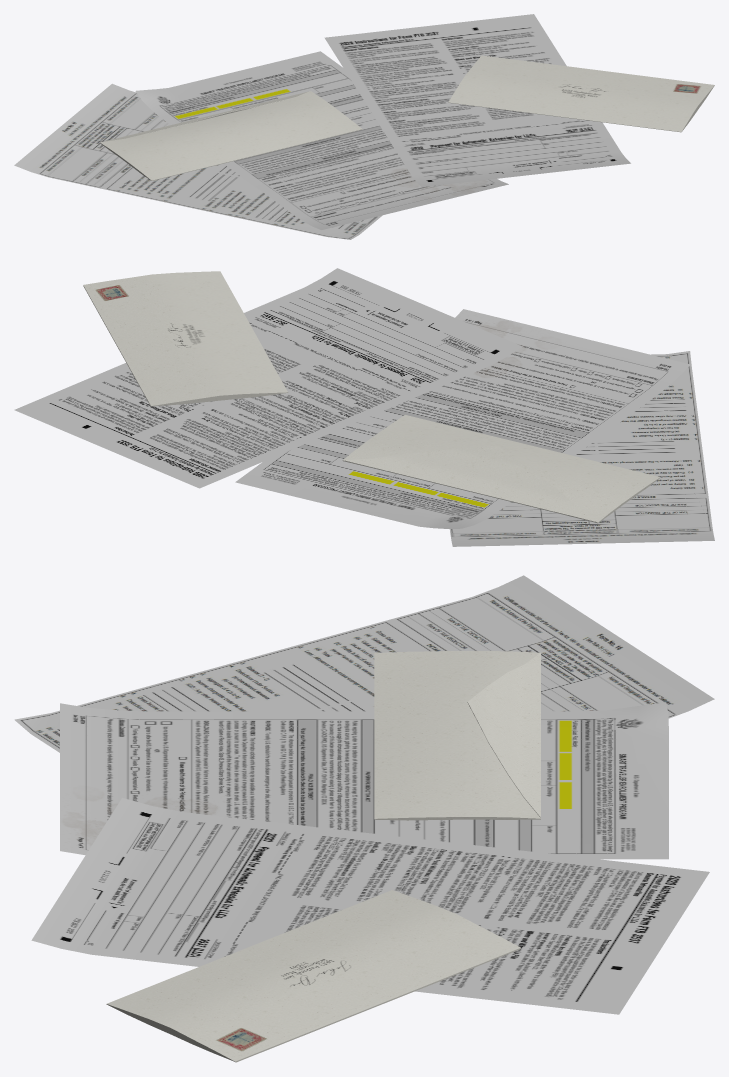
3 renders of one model, top to bottom at view 1: azimuth 30°, elevation 25°; view 2: azimuth 150°, elevation 25°; view 3: azimuth 270°, elevation 25°, orthographic. The views are drawn at different scales.
Visible parts, largest first — view 1: Paper_2, Paper_1, Paper_3, Envelope_1, Envelope_2; view 2: Paper_2, Paper_1, Paper_3, Envelope_1, Envelope_2; view 3: Paper_2, Paper_1, Paper_3, Envelope_1, Envelope_2.
Boxes of the visible parts, x1,y1,x2,y2 form: Paper_2: (324,14,630,187); Paper_1: (135,51,508,229); Paper_3: (14,83,382,239); Envelope_1: (448,55,714,132); Envelope_2: (100,91,362,180); Paper_2: (14,268,522,488); Paper_1: (235,309,690,528); Paper_3: (449,351,714,546); Envelope_1: (83,271,288,406); Envelope_2: (342,415,660,523); Paper_2: (31,798,709,1014); Paper_1: (60,702,668,859); Paper_3: (14,575,714,752); Envelope_1: (106,890,520,1062); Envelope_2: (374,651,540,820).
Bounding box in the file's own units: 0.794 × 0.0282 × 0.4889.
Materials: 1 (1 with a texture image).
